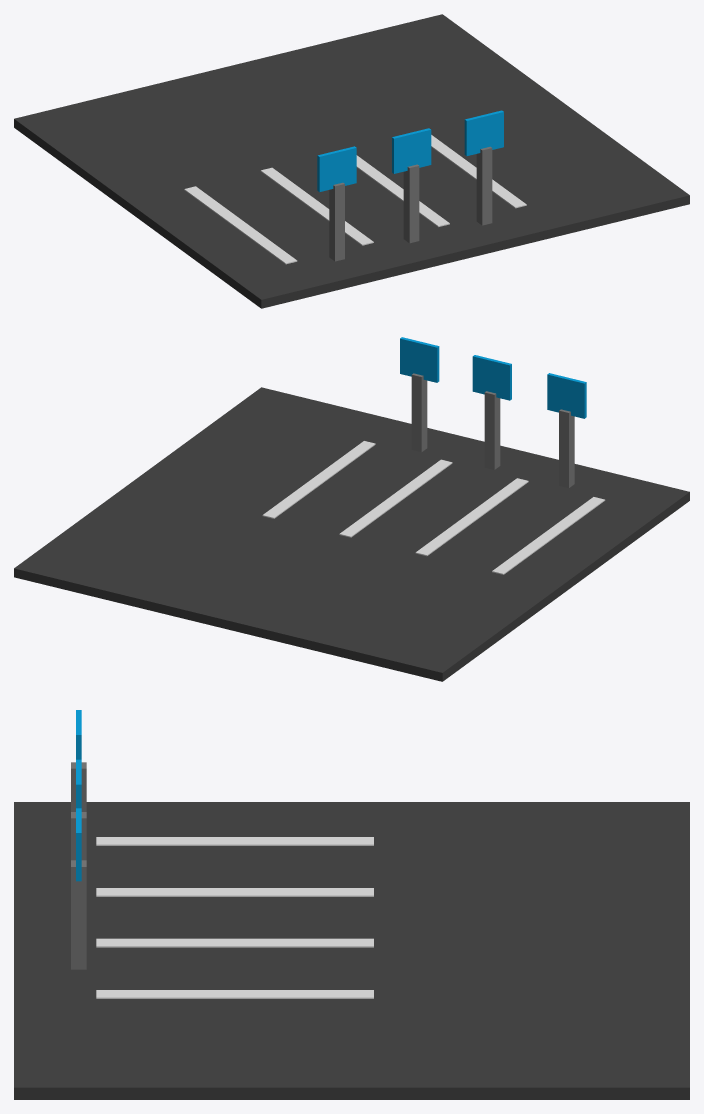
The model's file is parkingLot.fbx.
The picture shows the model from 3 angles, top to bottom: view 1: azimuth 30°, elevation 25°; view 2: azimuth 150°, elevation 25°; view 3: azimuth 270°, elevation 25°; orthographic projection. The views are drawn at different scales.
Parts seen in each view (by area): view 1: pCube131; view 2: pCube131; view 3: pCube131.
Part boxes in pixels (box(x1,y1,x2,y2)): pCube131: box(14, 14, 689, 308); pCube131: box(14, 337, 689, 681); pCube131: box(14, 710, 689, 1099).
Size of the model in its own units: 140 by 36.79 by 140.
